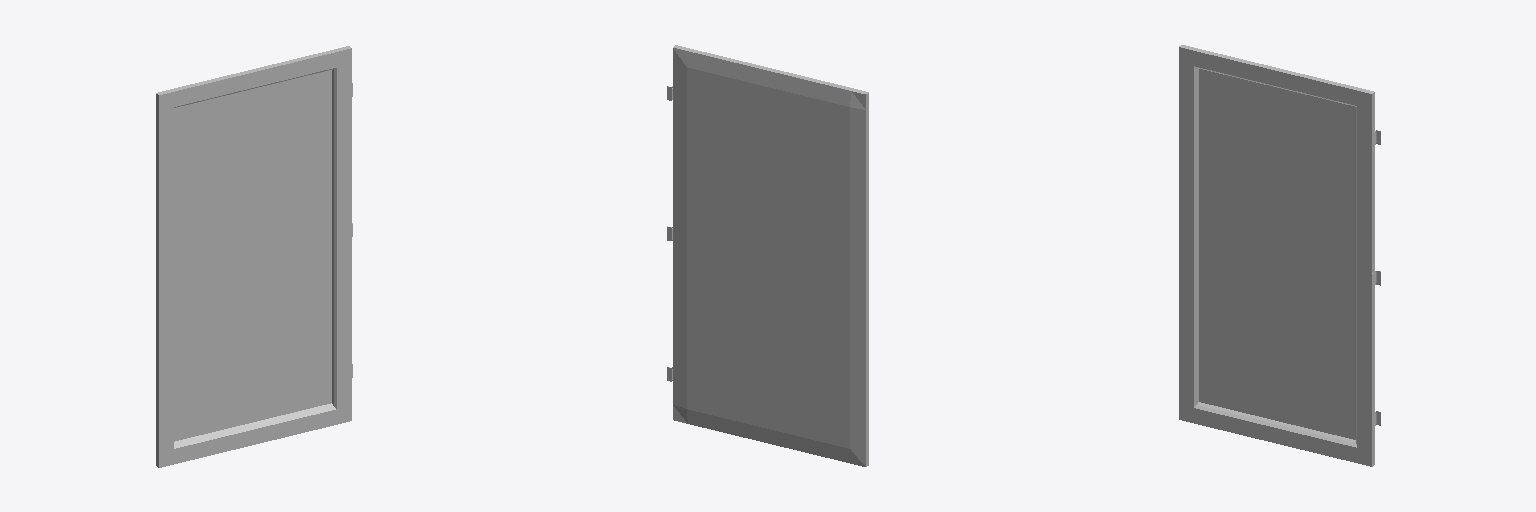
The model's file is windowRight.obj.
3 views of the same model, side by side, from view 1: azimuth 30°, elevation 25°; view 2: azimuth 150°, elevation 25°; view 3: azimuth 330°, elevation 25° (orthographic).
Size of the model in its own units: 4.06 by 7.29 by 0.1539.